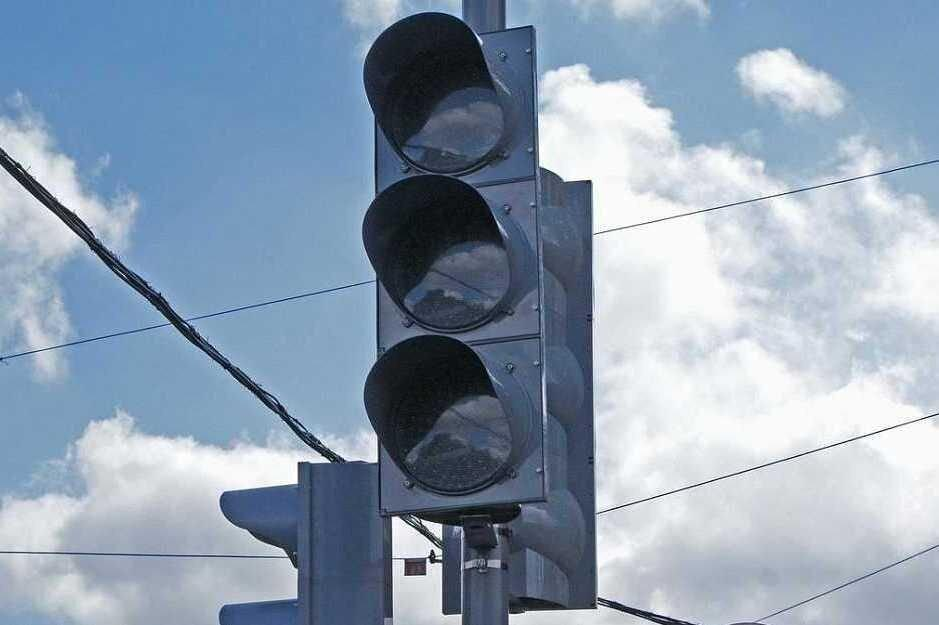off traffic light: (362, 13, 545, 512), (219, 462, 390, 624)
